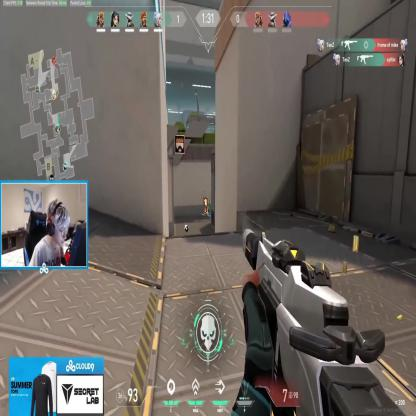enemy: (206, 197, 210, 215)
enemy_head: (207, 197, 208, 200)
